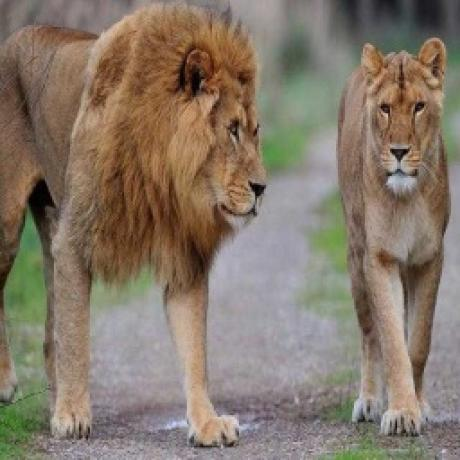Lion: (0, 0, 257, 453), (331, 31, 453, 440)
